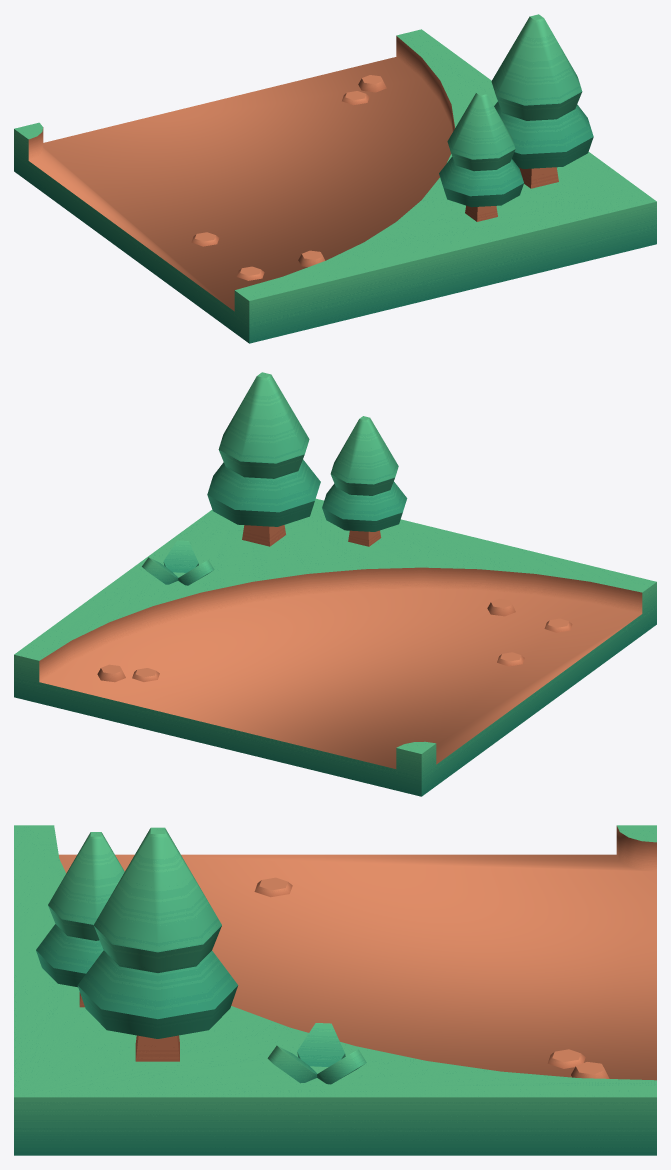
The model's file is tower-defense-kit--tile-wide-corner.glb.
3 views of the same model, one above another, from view 1: azimuth 30°, elevation 25°; view 2: azimuth 150°, elevation 25°; view 3: azimuth 270°, elevation 25° (orthographic). The views are drawn at different scales.
Visible parts, largest first — view 1: tile-wide-corner; view 2: tile-wide-corner; view 3: tile-wide-corner.
Boxes of the visible parts, x1,y1,x2,y2 form: tile-wide-corner: (14,14,656,343); tile-wide-corner: (14,372,656,796); tile-wide-corner: (14,825,656,1155).
Bounding box in the file's own units: 2 × 0.96 × 2.
1 material, 1 textured.
